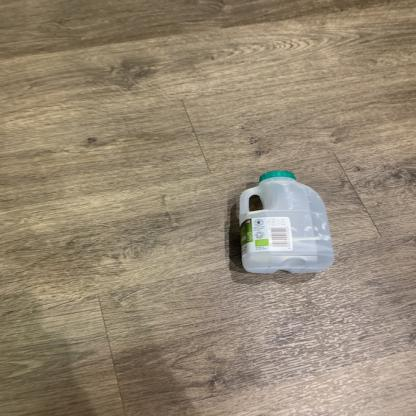trash: (236, 167, 338, 276)
